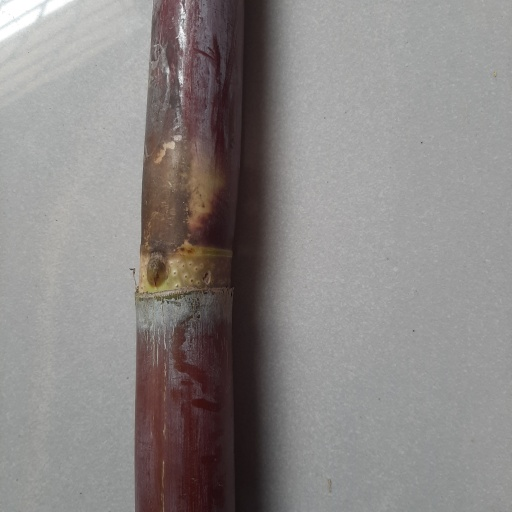Bud: (146, 257, 165, 288)
